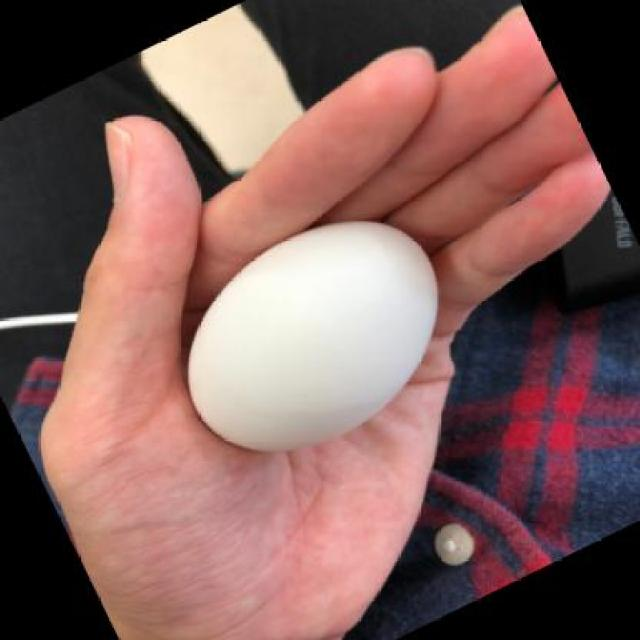egg: (189, 217, 442, 454)
